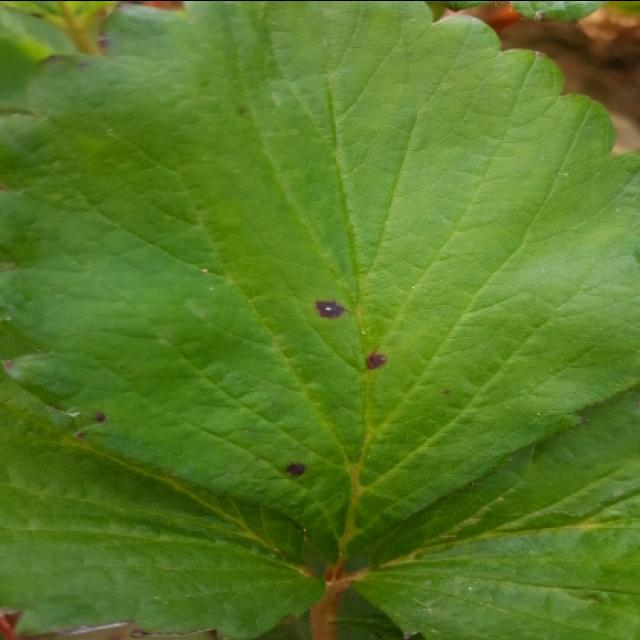Leaf Spot: (0, 0, 638, 576)
